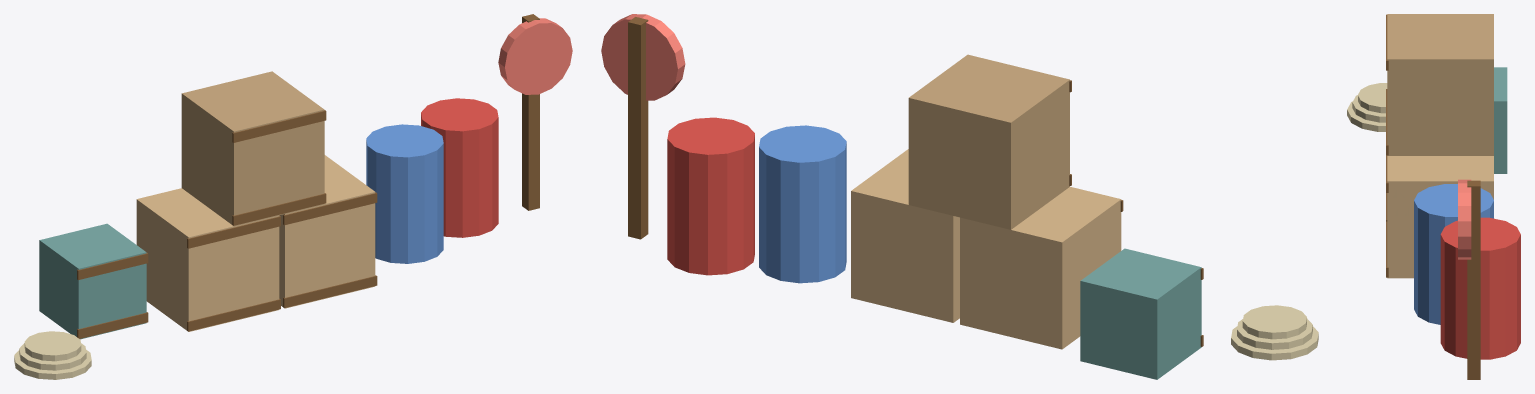
The model's file is harbour_cargo.glb.
3 renders of one model, left to right at view 1: azimuth 30°, elevation 25°; view 2: azimuth 150°, elevation 25°; view 3: azimuth 270°, elevation 25°, orthographic. The views are drawn at different scales.
Parts seen in each view (by area): view 1: harbour_cargo; view 2: harbour_cargo; view 3: harbour_cargo.
Part boxes in pixels (box(x1,y1,x2,y2)): harbour_cargo: box(14, 14, 572, 379); harbour_cargo: box(601, 14, 1318, 379); harbour_cargo: box(1347, 14, 1520, 379).
Size of the model in its own units: 5.19 by 1.6 by 1.3.
